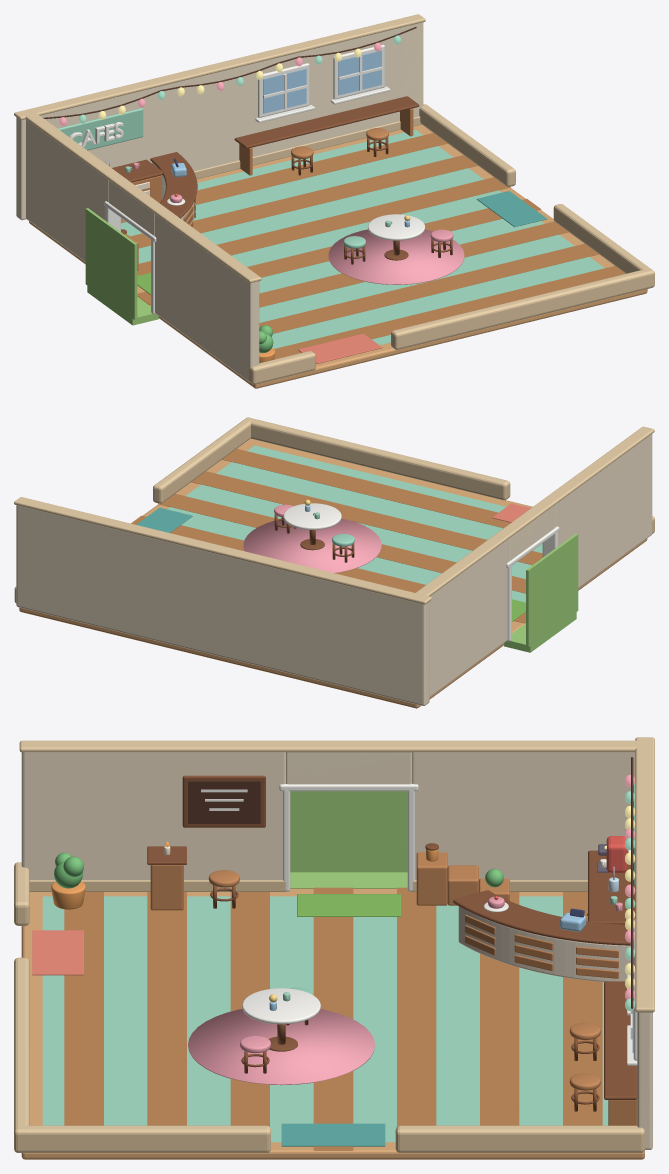
Rendered from room_cafe.glb.
3 views of the same model, one above another, from view 1: azimuth 30°, elevation 25°; view 2: azimuth 150°, elevation 25°; view 3: azimuth 270°, elevation 25° (orthographic). The views are drawn at different scales.
Parts seen in each view (by area): view 1: NAV_floor, wall_N, wall_W_0, wall_W_1, wall_S_low_1, floor_plank_3, rug, floor, floor_plank_11, floor_plank_9, doorway_W_view, wall_N_cap (+24 smaller); view 2: wall_N, NAV_floor, wall_W_0, wall_W_1, wall_S_low_1, floor, rug, doorway_W_view, wall_N_cap, floor_plank_1, floor_plank_3, wall_W_cap (+7 smaller); view 3: NAV_floor, wall_W_0, wall_W_1, doorway_W_view, rug, floor, floor_plank_9, floor_plank_3, floor_plank_1, wall_W_cap, wall_E_low_b, wall_E_low_a (+33 smaller).
Part boxes in pixels (left/top/right/bottom): NAV_floor: left=121, top=129, right=604, bottom=348; wall_N: left=16, top=22, right=423, bottom=220; wall_W_0: left=154, top=214, right=259, bottom=382; wall_W_1: left=26, top=119, right=108, bottom=262; wall_S_low_1: left=391, top=268, right=654, bottom=349; floor_plank_3: left=259, top=243, right=598, bottom=333; rug: left=328, top=229, right=464, bottom=284; floor: left=29, top=124, right=647, bottom=388; floor_plank_11: left=130, top=155, right=477, bottom=248; floor_plank_9: left=137, top=177, right=510, bottom=275; doorway_W_view: left=85, top=208, right=137, bottom=319; wall_N_cap: left=14, top=14, right=425, bottom=120; wall_N: left=16, top=505, right=429, bottom=705; NAV_floor: left=167, top=445, right=542, bottom=602; wall_W_0: left=555, top=434, right=652, bottom=588; wall_W_1: left=429, top=539, right=508, bottom=697; wall_S_low_1: left=244, top=417, right=510, bottom=500; floor: left=19, top=438, right=647, bottom=708; rug: left=243, top=518, right=381, bottom=573; doorway_W_view: left=526, top=533, right=578, bottom=647; wall_N_cap: left=14, top=497, right=431, bottom=604; floor_plank_1: left=222, top=449, right=510, bottom=528; floor_plank_3: left=191, top=471, right=542, bottom=565; wall_W_cap: left=413, top=426, right=654, bottom=597; NAV_floor: left=42, top=896, right=608, bottom=1142; wall_W_0: left=21, top=752, right=285, bottom=879; wall_W_1: left=412, top=752, right=635, bottom=879; doorway_W_view: left=290, top=791, right=407, bottom=872; rug: left=188, top=1009, right=374, bottom=1085; floor: left=21, top=888, right=644, bottom=1159; floor_plank_9: left=397, top=887, right=436, bottom=1126; floor_plank_3: left=147, top=892, right=186, bottom=1125; floor_plank_1: left=64, top=892, right=103, bottom=1125; wall_W_cap: left=19, top=740, right=645, bottom=752; wall_E_low_b: left=395, top=1125, right=644, bottom=1152; wall_E_low_a: left=25, top=1125, right=270, bottom=1152.
Size of the model in its own units: 6.47 by 1.63 by 6.17.
Materials: 2 (2 with a texture image).
